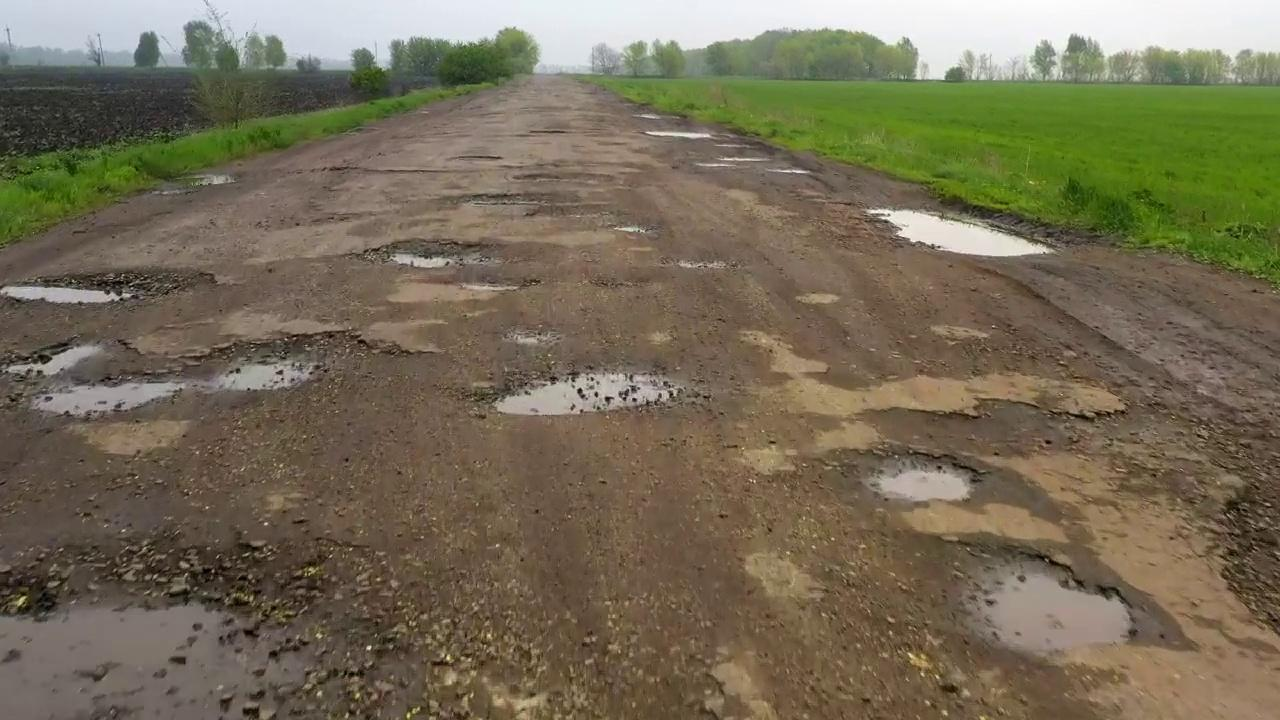bache: (0, 535, 398, 719), (21, 333, 344, 418), (965, 548, 1136, 654), (868, 209, 1055, 257), (496, 373, 684, 414), (0, 271, 212, 304), (864, 455, 976, 503), (362, 240, 503, 269), (454, 193, 553, 206)
